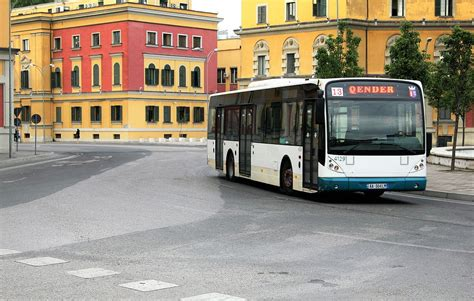bus: (206, 79, 426, 200)
